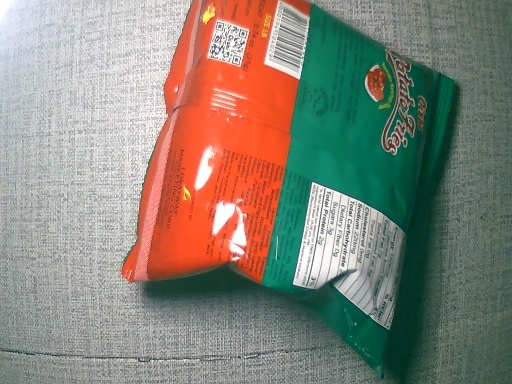plastic: (119, 1, 458, 381)
